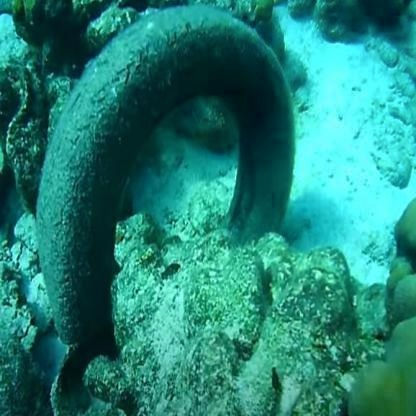tire: (72, 14, 302, 343)
